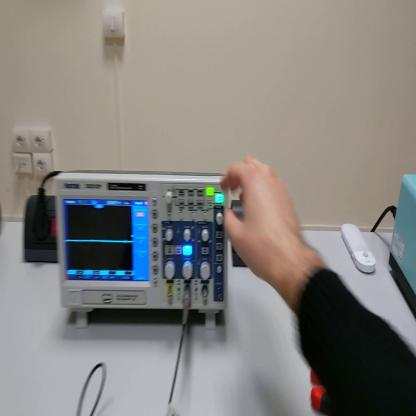hand: (221, 154, 304, 287)
oscilloscope: (51, 169, 229, 331)
socket: (22, 193, 59, 266)
welder station: (394, 173, 416, 319)
